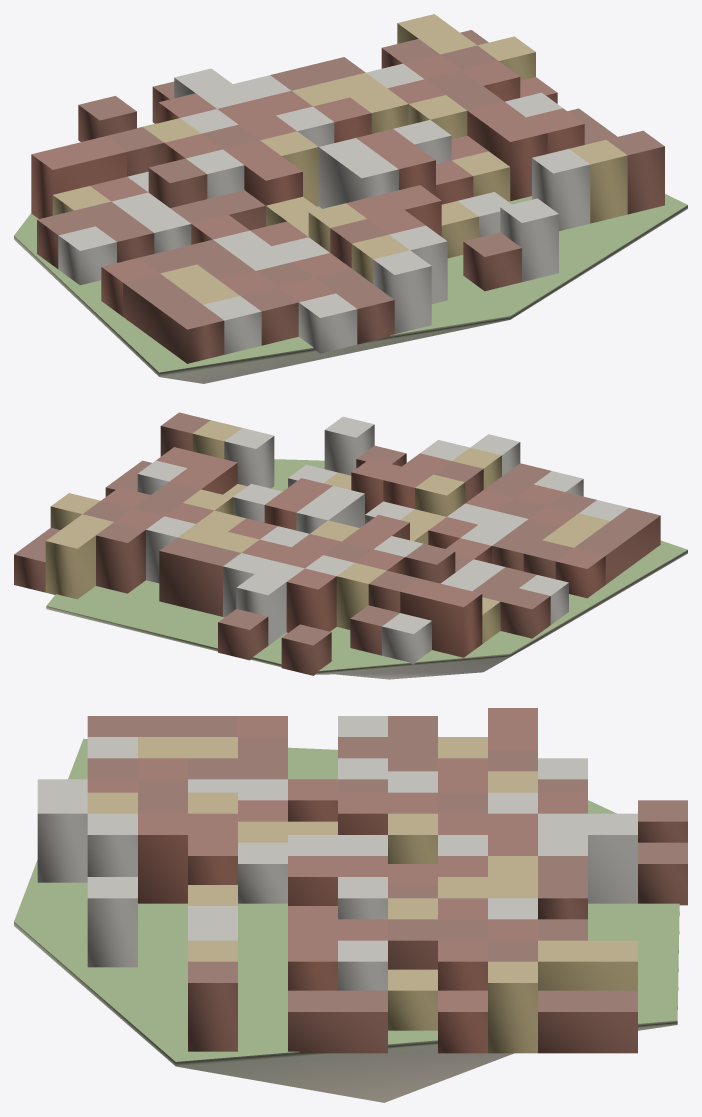
Rendered from SKY-004.lod2.glb.
The picture shows the model from 3 angles, top to bottom: view 1: azimuth 30°, elevation 25°; view 2: azimuth 150°, elevation 25°; view 3: azimuth 270°, elevation 25°; orthographic projection. The views are drawn at different scales.
Parts seen in each view (by area): view 1: warren_hull, deck, rock; view 2: warren_hull, deck, rock; view 3: warren_hull, deck, rock.
Part boxes in pixels (<box>): warren_hull: <box>31,14,664,363</box>; deck: <box>14,123,687,372</box>; rock: <box>14,205,687,383</box>; warren_hull: <box>14,412,660,675</box>; deck: <box>46,459,687,671</box>; rock: <box>46,550,687,679</box>; warren_hull: <box>37,708,687,1053</box>; deck: <box>14,738,679,1061</box>; rock: <box>14,912,679,1102</box>.
Size of the model in its own units: 229 by 65.63 by 202.
